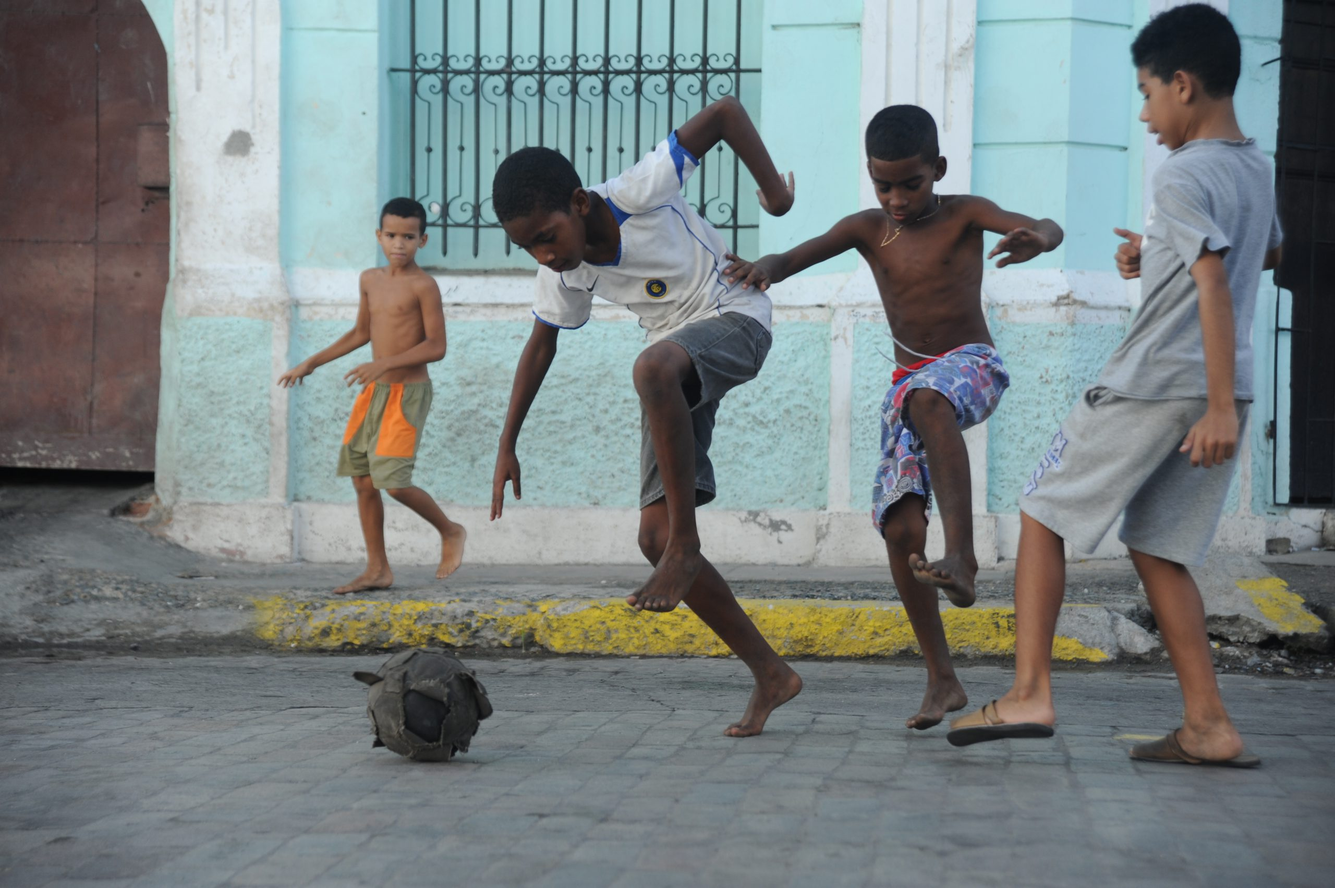Person: (1010, 12, 1313, 788), (483, 123, 822, 736), (770, 98, 1035, 735), (277, 183, 478, 602)
